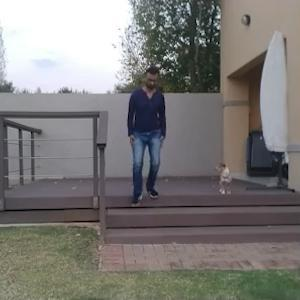follow: (125, 65, 161, 207)
